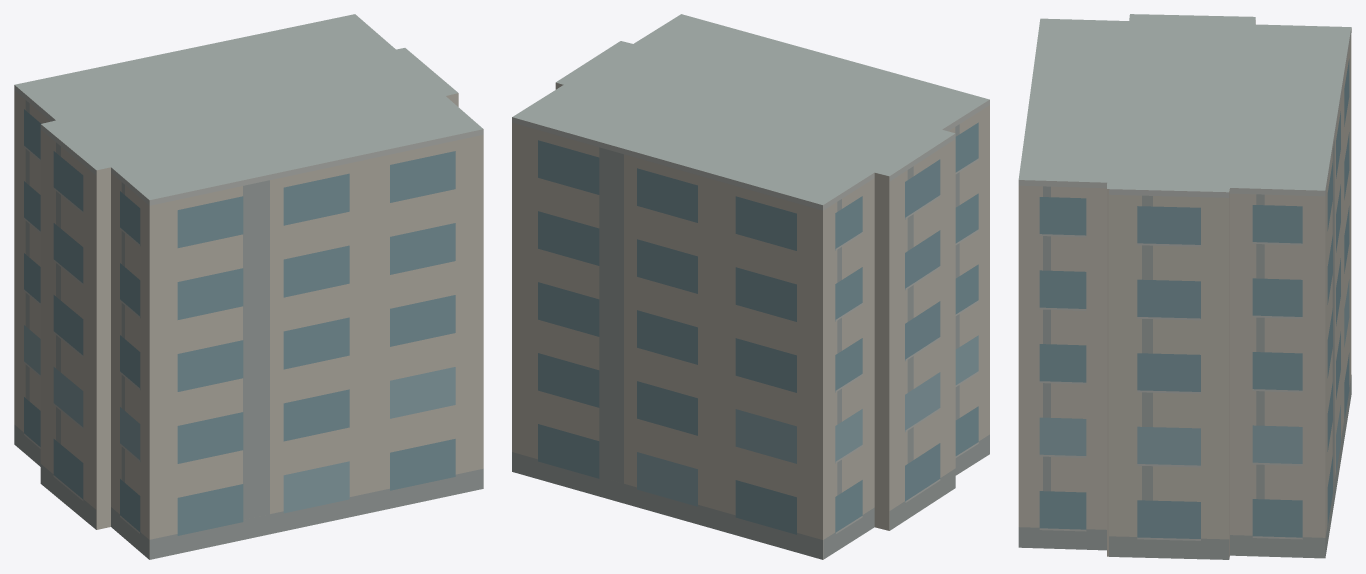
The model's file is survey-upis-32460233.glb.
The picture shows the model from 3 angles, left to right: view 1: azimuth 30°, elevation 25°; view 2: azimuth 150°, elevation 25°; view 3: azimuth 270°, elevation 25°; orthographic projection. The views are drawn at different scales.
Parts seen in each view (by area): view 1: survey-upis-32460233.tmp; view 2: survey-upis-32460233.tmp; view 3: survey-upis-32460233.tmp.
Part boxes in pixels (x1,y1,x2,y2): survey-upis-32460233.tmp: (14, 14, 483, 559); survey-upis-32460233.tmp: (512, 14, 989, 559); survey-upis-32460233.tmp: (1018, 14, 1351, 559).
Size of the model in its own units: 16.43 by 15.8 by 12.97.
